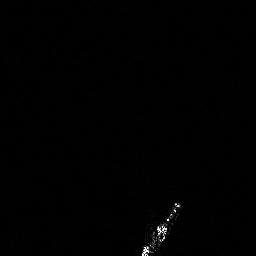ship: (138, 197, 185, 256)
